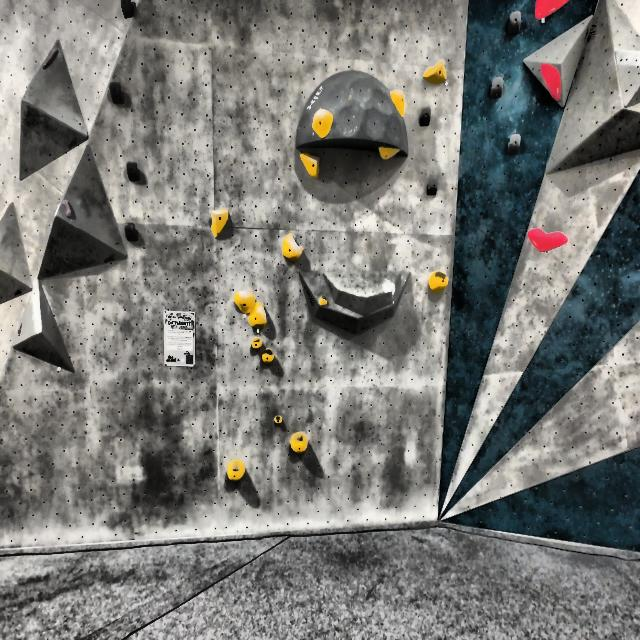Hold: (535, 62, 564, 105), (526, 226, 570, 254), (279, 231, 306, 269), (293, 148, 322, 183), (208, 207, 230, 244), (418, 56, 446, 85), (535, 0, 567, 25), (426, 266, 449, 299), (231, 288, 258, 316), (313, 108, 337, 138), (228, 455, 249, 486), (378, 138, 403, 164), (412, 106, 433, 135), (37, 44, 58, 72), (248, 303, 270, 329), (292, 431, 312, 459), (506, 132, 526, 158), (507, 12, 526, 39), (391, 90, 408, 118), (62, 198, 79, 226), (423, 176, 441, 200), (488, 74, 506, 98), (112, 80, 127, 108), (120, 0, 136, 24), (128, 165, 144, 188), (127, 225, 142, 246), (262, 350, 279, 366), (273, 414, 286, 430), (251, 336, 262, 348)
